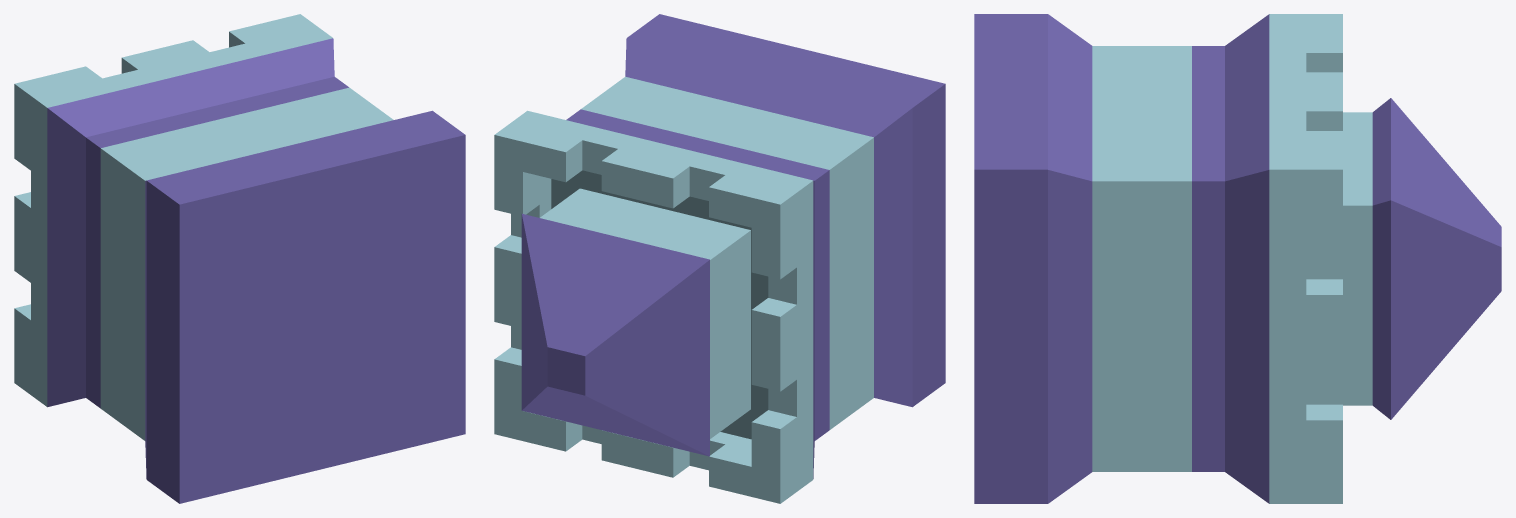
Rendered from towerSquare_sampleA.obj.
The picture shows the model from 3 angles, left to right: view 1: azimuth 30°, elevation 25°; view 2: azimuth 150°, elevation 25°; view 3: azimuth 270°, elevation 25°; orthographic projection. The views are drawn at different scales.
Visible parts, largest first — view 1: towerSquare_sampleA.006; view 2: towerSquare_sampleA.006; view 3: towerSquare_sampleA.006.
Part boxes in pixels (box(x1,y1,x2,y2)): towerSquare_sampleA.006: box(14, 14, 465, 503); towerSquare_sampleA.006: box(494, 14, 945, 503); towerSquare_sampleA.006: box(974, 14, 1501, 503).
Bounding box in the file's own units: 1 × 1 × 1.43.
